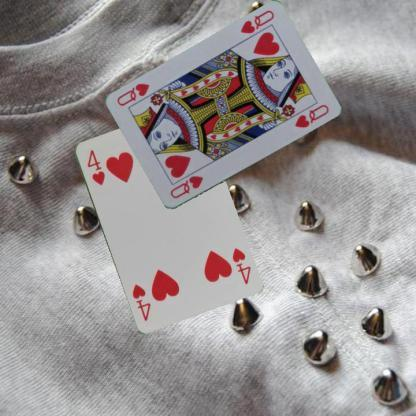4h: (229, 245, 252, 285), (84, 146, 106, 186)
Qh: (238, 7, 275, 36), (168, 174, 204, 200)
